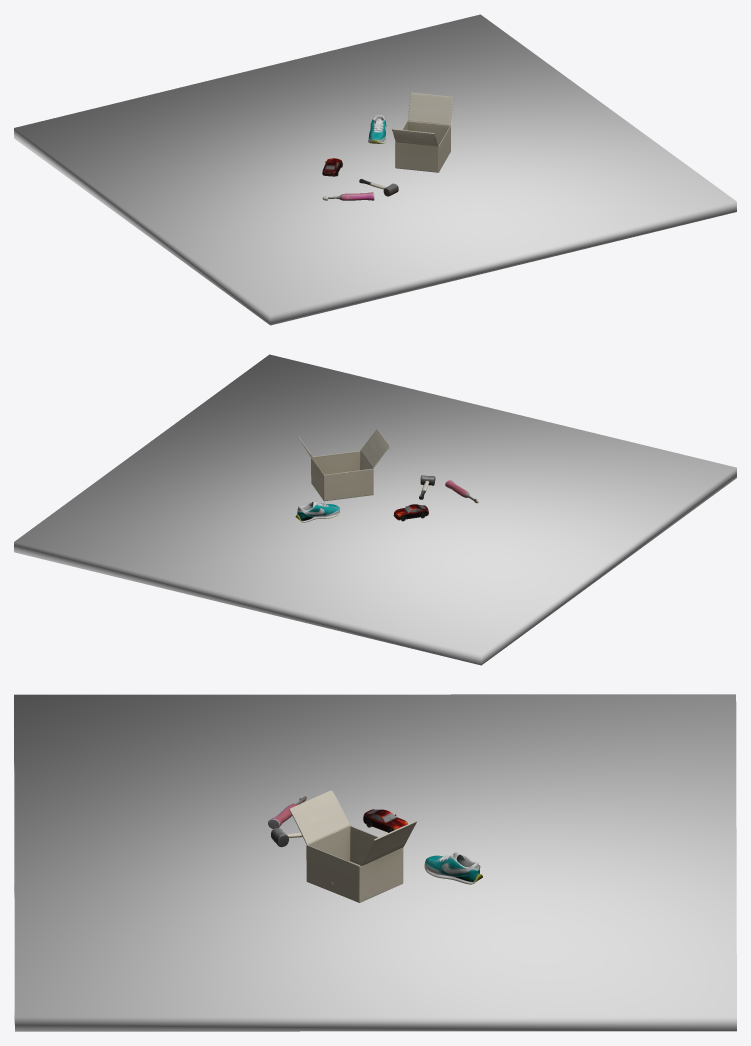
File: rest3d.glb
The picture shows the model from 3 angles, top to bottom: view 1: azimuth 30°, elevation 25°; view 2: azimuth 150°, elevation 25°; view 3: azimuth 270°, elevation 25°; orthographic projection. The views are drawn at different scales.
Parts seen in each view (by area): view 1: ground, World; view 2: ground, World; view 3: ground, World.
Part boxes in pixels (x1,y1,x2,y2): ground: (14, 14, 736, 325); World: (322, 92, 453, 200); ground: (14, 354, 736, 665); World: (295, 428, 478, 522); ground: (14, 694, 736, 1031); World: (268, 790, 482, 902).
Size of the model in its own units: 2.36 by 0.2897 by 2.24.
